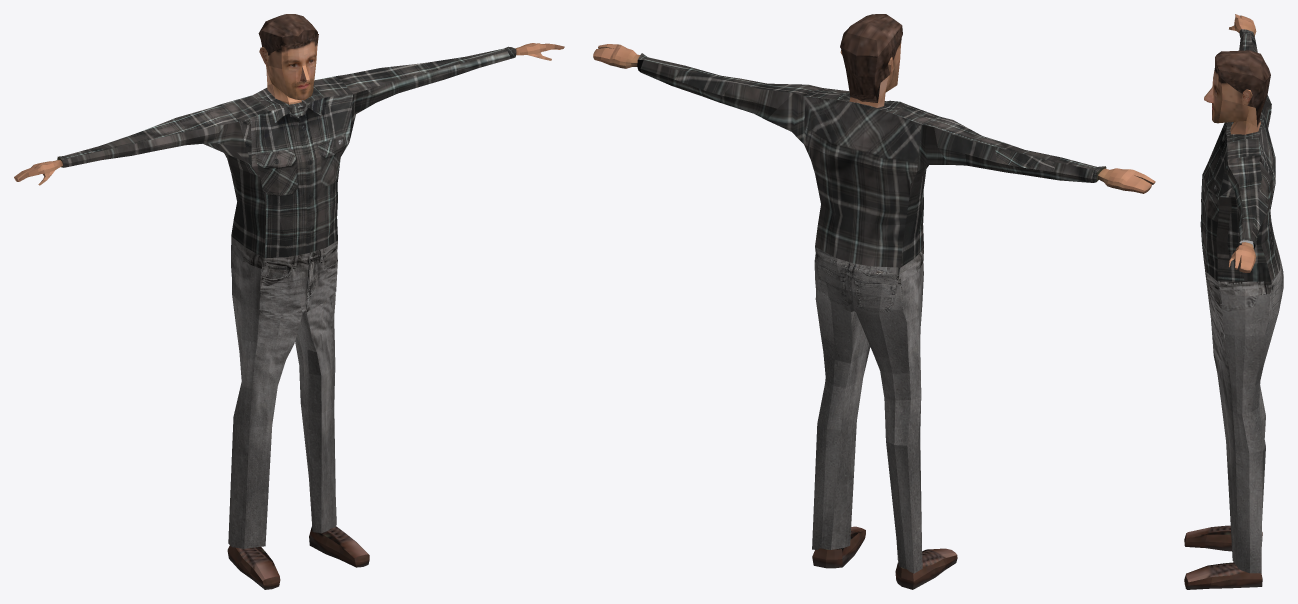
File: ps1 character.fbx
3 views of the same model, side by side, from view 1: azimuth 30°, elevation 25°; view 2: azimuth 150°, elevation 25°; view 3: azimuth 270°, elevation 25° (orthographic). The views are drawn at different scales.
Visible parts, largest first — view 1: body.002, body.001; view 2: body.002, body.001; view 3: body.002, body.001.
Boxes of the visible parts, x1=… form: body.002: x1=14, y1=43, x2=564, y2=589; body.001: x1=258, y1=14, x2=318, y2=104; body.002: x1=593, y1=44, x2=1155, y2=589; body.001: x1=840, y1=14, x2=902, y2=107; body.002: x1=1184, y1=14, x2=1283, y2=589; body.001: x1=1204, y1=50, x2=1270, y2=134.
Bounding box in the file's own units: 282 × 266 × 46.51.
2 materials, 2 textured.
